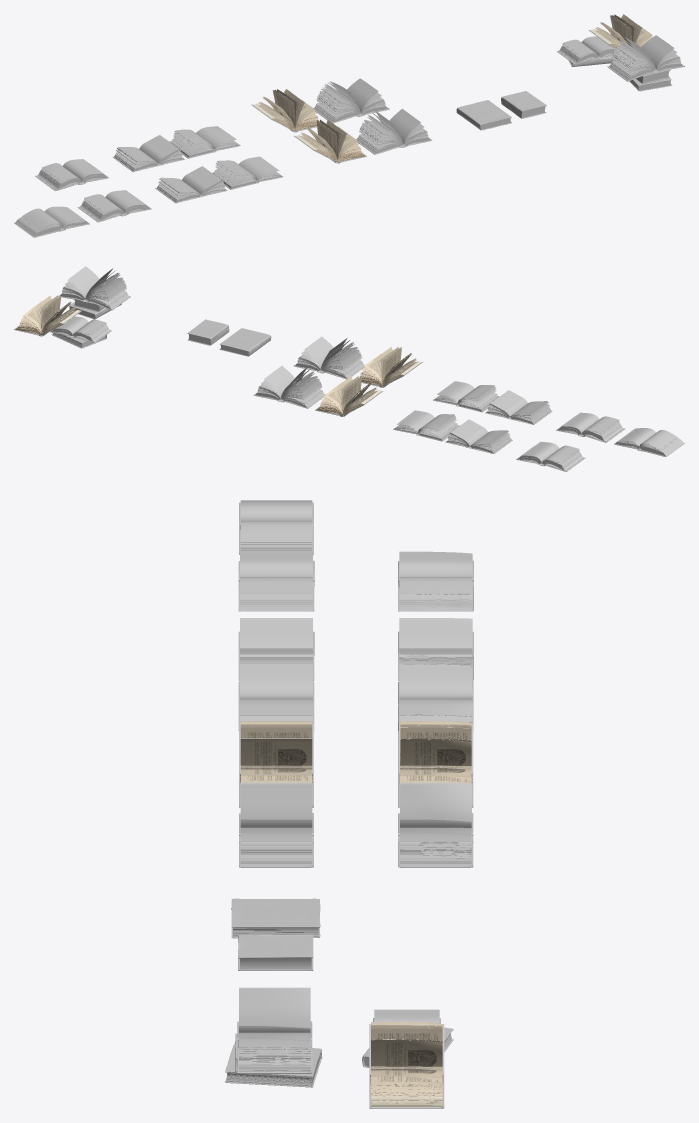
File: OPEN.fbx
3 renders of one model, top to bottom at view 1: azimuth 30°, elevation 25°; view 2: azimuth 150°, elevation 25°; view 3: azimuth 270°, elevation 25°, orthographic. The views are drawn at different scales.
Parts seen in each view (by area): view 1: openedBook_030, openedBook_04, openedBook_036, openedBook_05, openedBook_17, openedBook_03, openedBook_15, openedBook_06, openedBook_13, openedBook_01, openedBook_02, openedBook_14 (+4 smaller); view 2: openedBook_030, openedBook_04, openedBook_036, openedBook_032, openedBook_17, openedBook_05, openedBook_15, openedBook_03, openedBook_06, openedBook_13, openedBook_01, openedBook_02 (+4 smaller); view 3: openedBook_030, openedBook_04, openedBook_032, openedBook_036, openedBook_05, openedBook_17, openedBook_02, openedBook_14, openedBook_13, openedBook_06, openedBook_01, openedBook_15 (+4 smaller).
Boxes of the visible parts, bbox=[...] form: openedBook_030: bbox=[609, 35, 683, 80]; openedBook_04: bbox=[356, 108, 430, 153]; openedBook_036: bbox=[313, 78, 387, 122]; openedBook_05: bbox=[295, 119, 365, 162]; openedBook_17: bbox=[253, 89, 319, 131]; openedBook_03: bbox=[157, 166, 226, 202]; openedBook_15: bbox=[114, 135, 183, 171]; openedBook_06: bbox=[212, 156, 281, 188]; openedBook_13: bbox=[169, 126, 239, 157]; openedBook_01: bbox=[15, 206, 88, 236]; openedBook_02: bbox=[78, 190, 150, 221]; openedBook_14: bbox=[36, 159, 107, 190]; openedBook_030: bbox=[60, 266, 129, 309]; openedBook_04: bbox=[295, 336, 364, 378]; openedBook_036: bbox=[255, 366, 324, 407]; openedBook_032: bbox=[15, 295, 80, 335]; openedBook_17: bbox=[316, 376, 381, 415]; openedBook_05: bbox=[359, 347, 421, 386]; openedBook_15: bbox=[446, 419, 511, 453]; openedBook_03: bbox=[486, 390, 551, 423]; openedBook_06: bbox=[434, 381, 499, 411]; openedBook_13: bbox=[394, 410, 459, 440]; openedBook_01: bbox=[615, 428, 683, 456]; openedBook_02: bbox=[557, 412, 624, 441]; openedBook_030: bbox=[238, 987, 311, 1071]; openedBook_04: bbox=[240, 782, 312, 865]; openedBook_032: bbox=[370, 1022, 443, 1106]; openedBook_036: bbox=[399, 782, 472, 865]; openedBook_05: bbox=[240, 721, 312, 782]; openedBook_17: bbox=[399, 721, 472, 783]; openedBook_02: bbox=[239, 551, 313, 609]; openedBook_14: bbox=[399, 551, 472, 609]; openedBook_13: bbox=[399, 664, 472, 723]; openedBook_06: bbox=[239, 664, 313, 723]; openedBook_01: bbox=[240, 500, 312, 551]; openedBook_15: bbox=[399, 618, 472, 667].
Size of the model in its own units: 4931 by 277 by 857.
